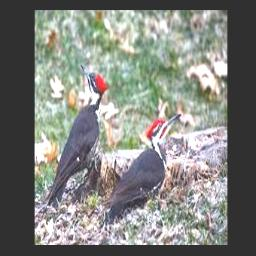Woodpecker: (42, 65, 108, 211), (101, 113, 181, 214)
